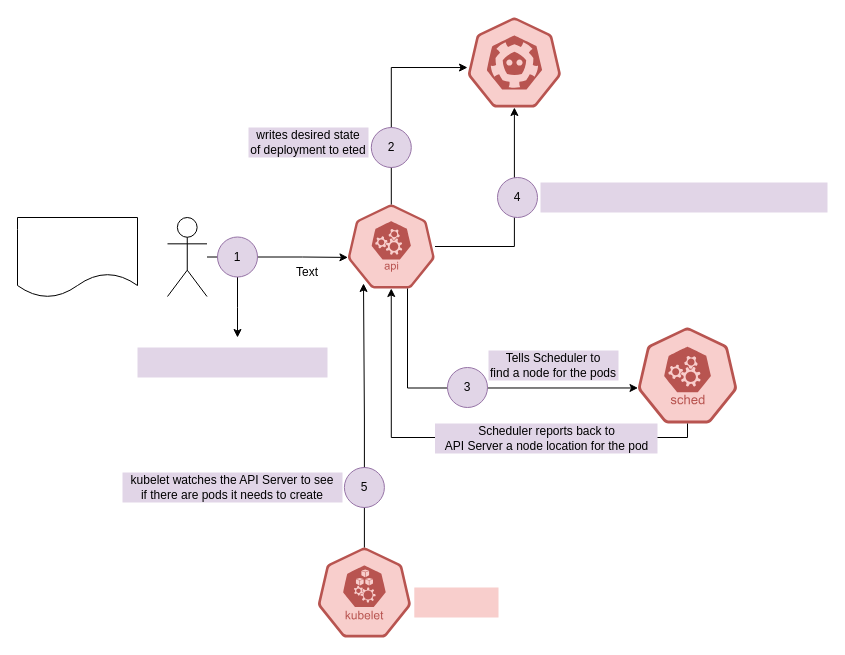
This 845x655 diagram has some shape labels left out. The shapes that lost their labels are listed below. From the top down, each one's centre as x and y in pixels, then its label:
[683,197]: API Server writes to eted the location of the pod as determined by scheduler
[77,257]: app.yaml (manifest file)
[186,256]: Actor
[232,362]: oc apply -f app.yaml kubectl apply -f app.yaml
[456,602]: Runs on all nodes
